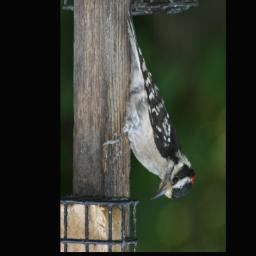Woodpecker: (102, 10, 195, 201)
